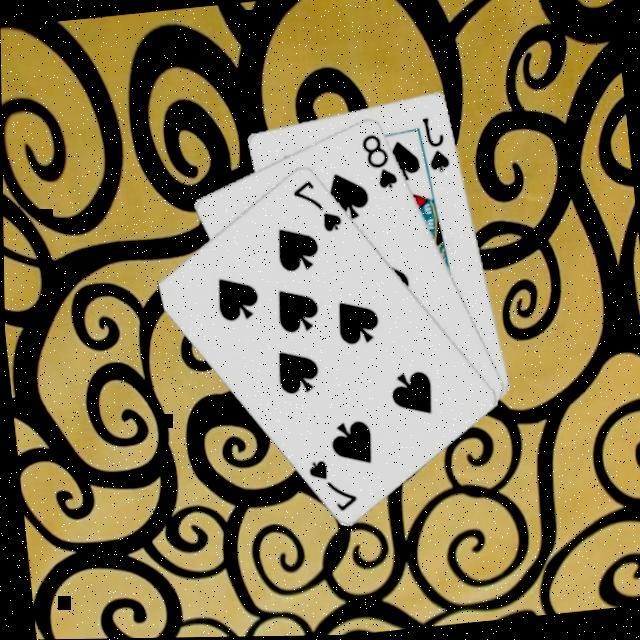7S: (286, 176, 344, 240), (301, 455, 359, 519)
8S: (356, 130, 400, 197)
JS: (417, 114, 453, 178)
